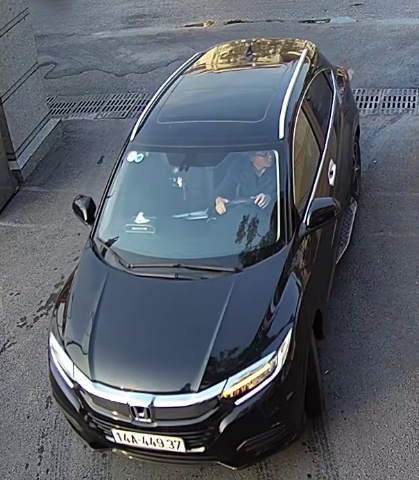vehicle plate: (108, 425, 184, 457)
